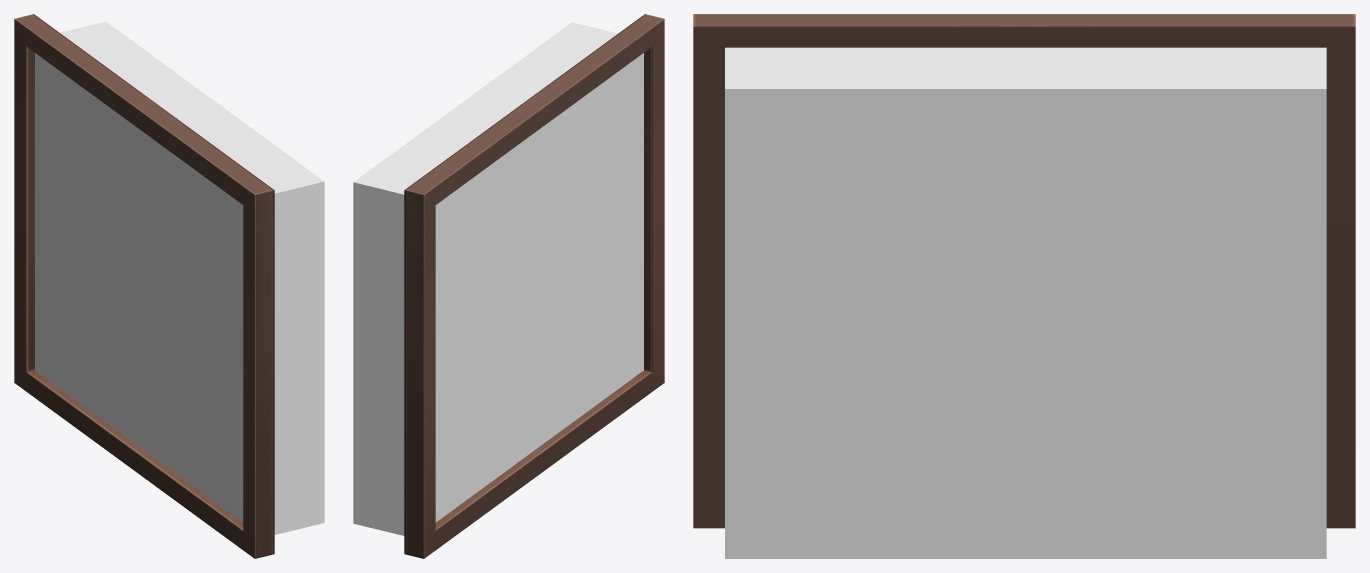
The model's file is my_wildhunt_01_window_01.glb.
3 views of the same model, side by side, from view 1: azimuth 30°, elevation 25°; view 2: azimuth 150°, elevation 25°; view 3: azimuth 270°, elevation 25° (orthographic). The views are drawn at different scales.
Parts seen in each view (by area): view 1: my_wildhunt_01_window_01_hole, my_wildhunt_01_window_01, my_wildhunt_01_window_01_cover; view 2: my_wildhunt_01_window_01_hole, my_wildhunt_01_window_01, my_wildhunt_01_window_01_cover; view 3: my_wildhunt_01_window_01_cover, my_wildhunt_01_window_01.
Part boxes in pixels (left/top/right/bottom): my_wildhunt_01_window_01_hole: left=35, top=53, right=243, bottom=522; my_wildhunt_01_window_01: left=14, top=14, right=274, bottom=558; my_wildhunt_01_window_01_cover: left=60, top=21, right=324, bottom=534; my_wildhunt_01_window_01_hole: left=435, top=53, right=643, bottom=522; my_wildhunt_01_window_01: left=404, top=14, right=664, bottom=558; my_wildhunt_01_window_01_cover: left=353, top=22, right=617, bottom=535; my_wildhunt_01_window_01_cover: left=725, top=47, right=1326, bottom=558; my_wildhunt_01_window_01: left=693, top=14, right=1355, bottom=528.
Size of the model in its own units: 0.00339 by 0.0145 by 0.0174.
4 materials, 2 textured.
